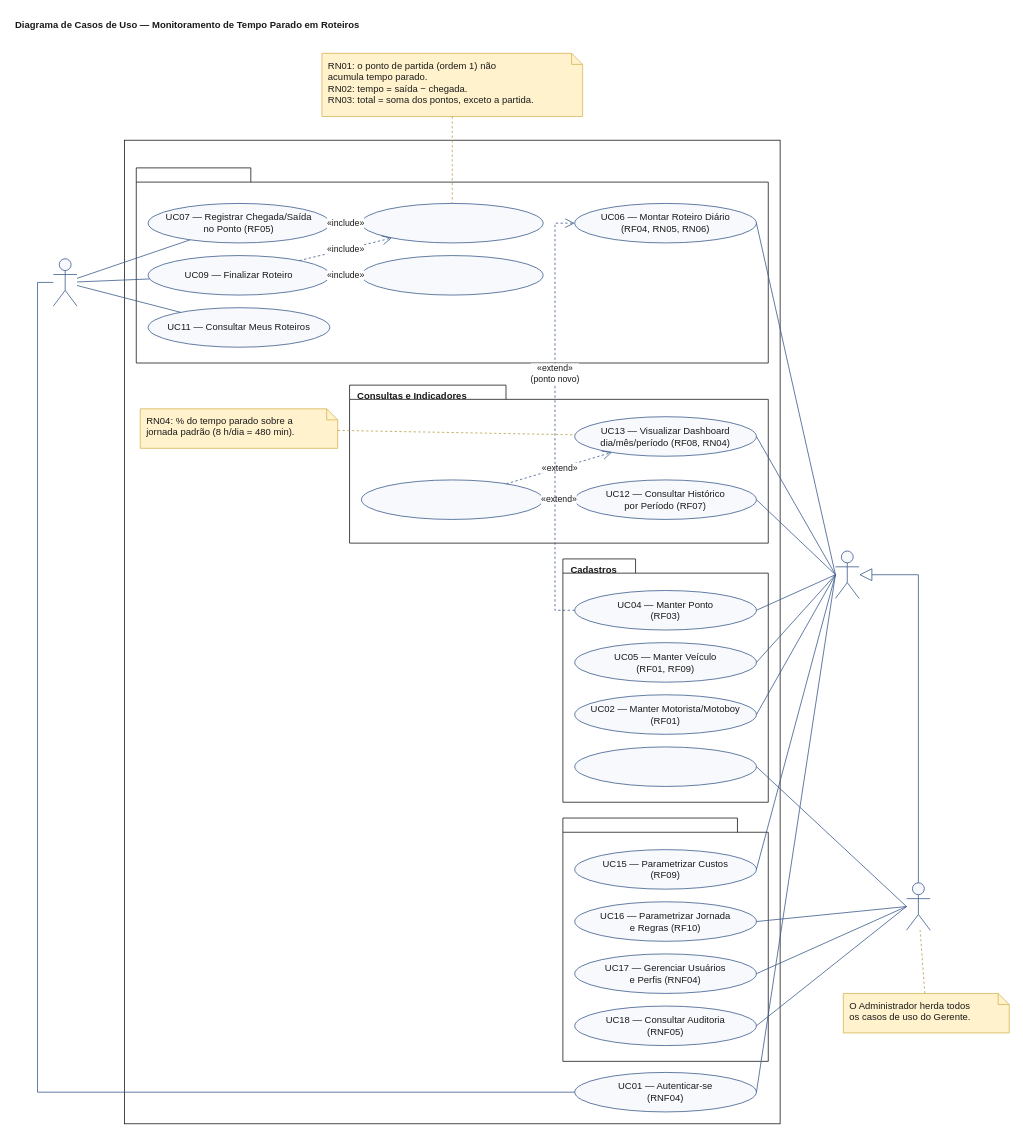
Image size: 1023x1138. Some labels were removed from this diagram. Here are the shapes that lost their labels. From the top down, the box of each, then its label:
(361, 203, 543, 243): UC08 — Calcular Tempo Parado (RF06, RN01–RN03)
(53, 258, 77, 306): Motorista / Motoboy
(135, 167, 768, 363): Roteiro e Coleta
(361, 255, 543, 295): UC10 — Calcular Custo Estimado (RF11, RN07)
(361, 479, 543, 519): UC14 — Exportar Relatório (RF12)
(835, 550, 859, 598): Gerente / Coordenador
(124, 139, 780, 1124): Sistema de Monitoramento de Tempo Parado
(574, 746, 756, 786): UC03 — Manter Gerente/Coordenador (RF02)
(906, 882, 930, 930): Administrador
(562, 817, 768, 1061): Parametrização e Segurança
